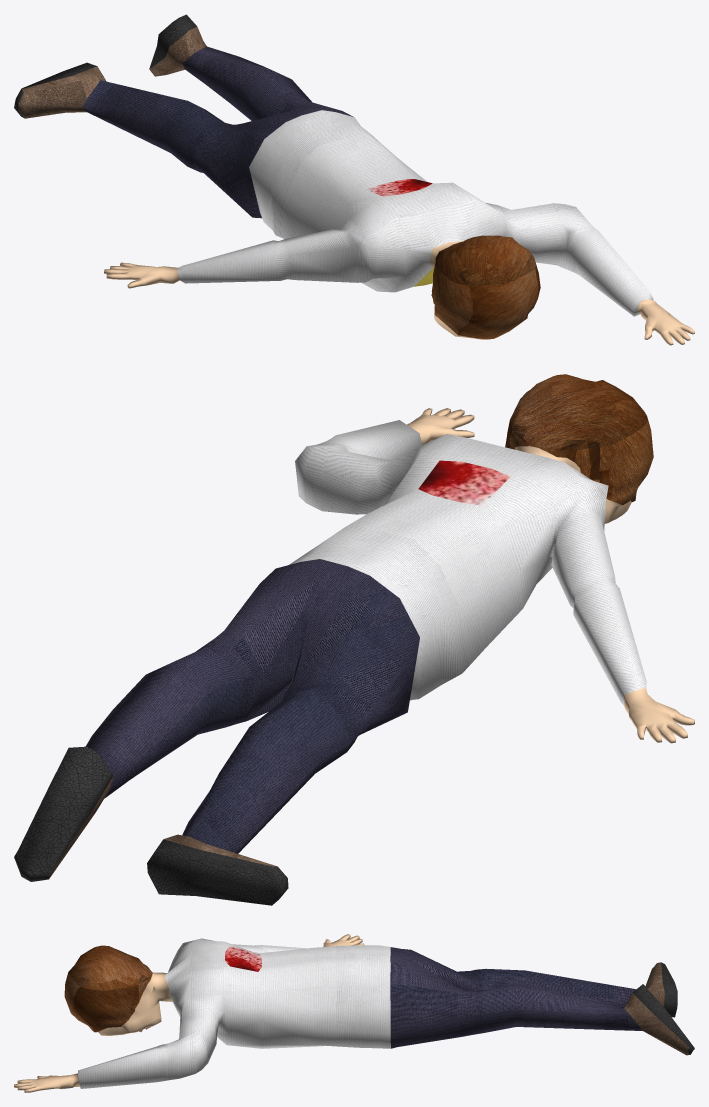
The model's file is DeadBody.dae.
3 views of the same model, one above another, from view 1: azimuth 30°, elevation 25°; view 2: azimuth 150°, elevation 25°; view 3: azimuth 270°, elevation 25° (orthographic). The views are drawn at different scales.
Parts seen in each view (by area): view 1: body; view 2: body; view 3: body.
Part boxes in pixels (bbox=[...]): body: bbox=[14, 14, 694, 345]; body: bbox=[14, 374, 694, 905]; body: bbox=[14, 934, 694, 1092].
Size of the model in its own units: 19.42 by 36.42 by 5.14.
12 materials, 11 textured.
